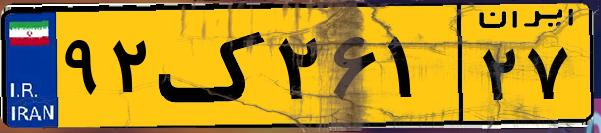1: (385, 28, 445, 110)
2: (270, 28, 330, 110), (475, 38, 525, 113), (110, 28, 158, 98)
6: (330, 28, 385, 110)
7: (525, 38, 570, 115)
9: (57, 26, 110, 100)
ک: (158, 12, 270, 120)
